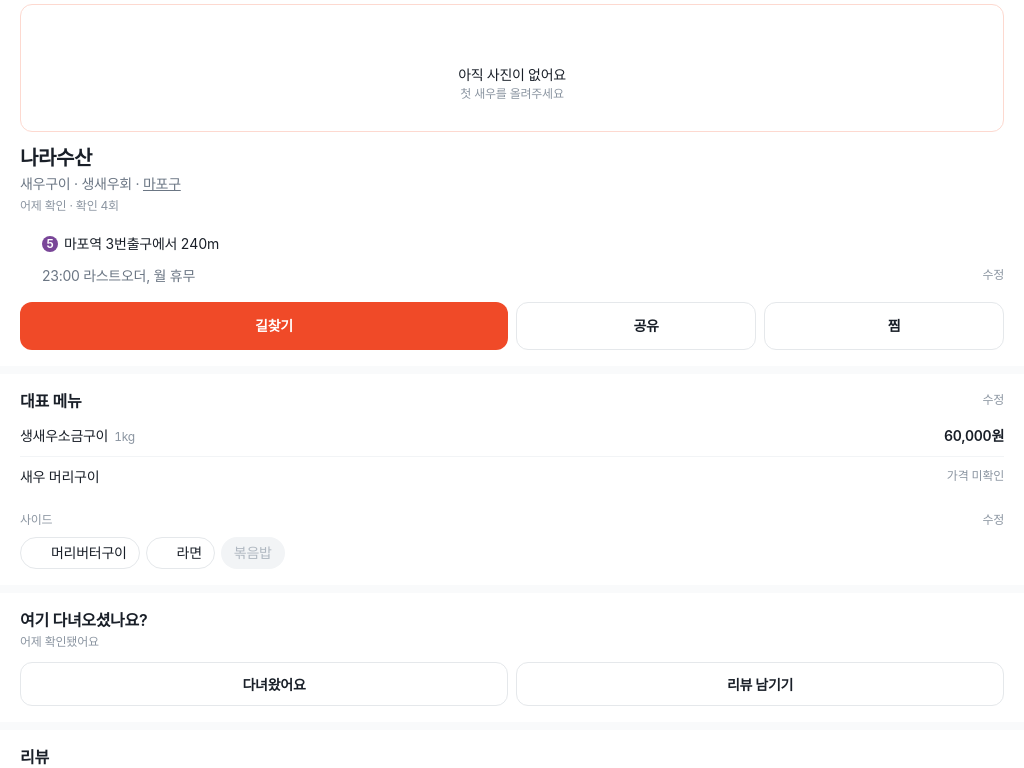
Scenario: 값 제안 시트 — 영업시간·주소·대표 메뉴·사이드 (design 화면 2 값 폼 시트) › 보내고 바로 닫아도 반영은 부모에 도착한다 — 쓰기는 이미 일어났다
Step 1. Click the button with aria-label "영업시간 수정" → (993, 276), box [982,267,1004,284]
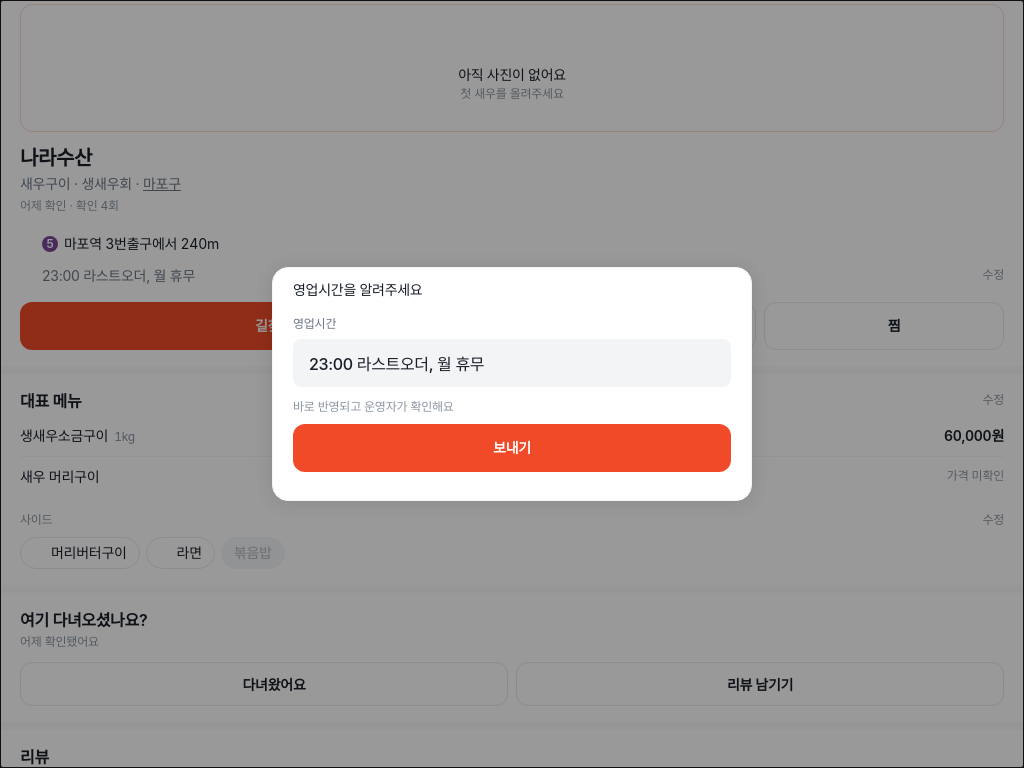
Step 2. Click the button "보내기" → (512, 448), box [293,424,731,472]
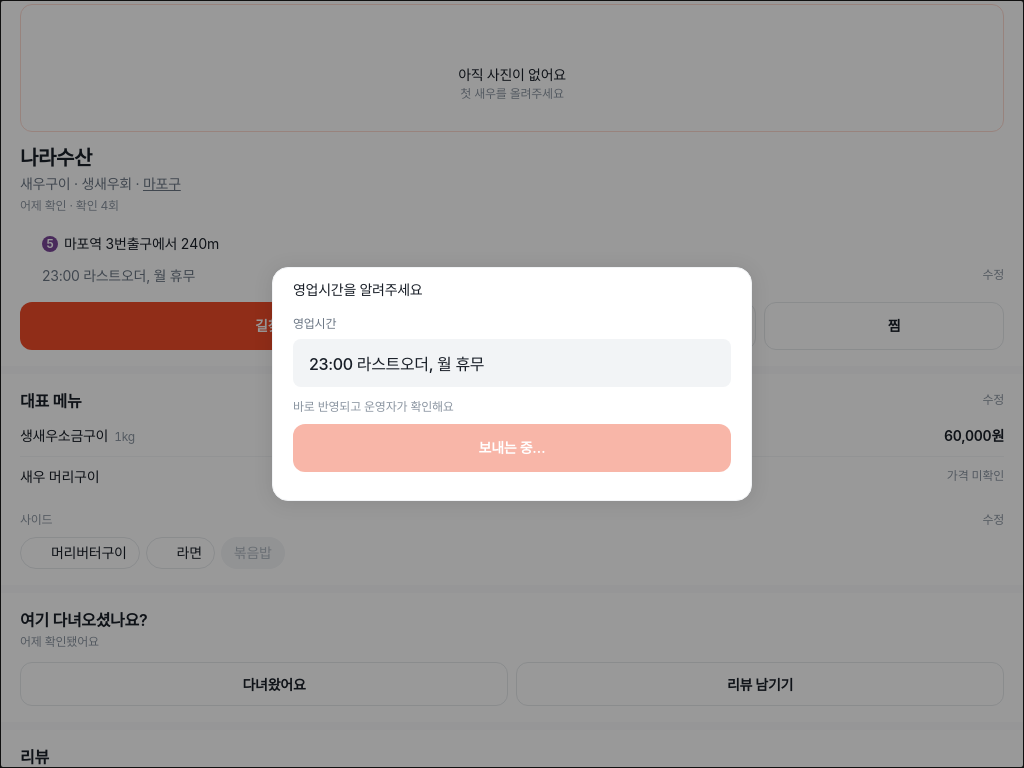
Step 3. Click the 1st button named "닫기" → (61, 384), box [0,0,1023,767]
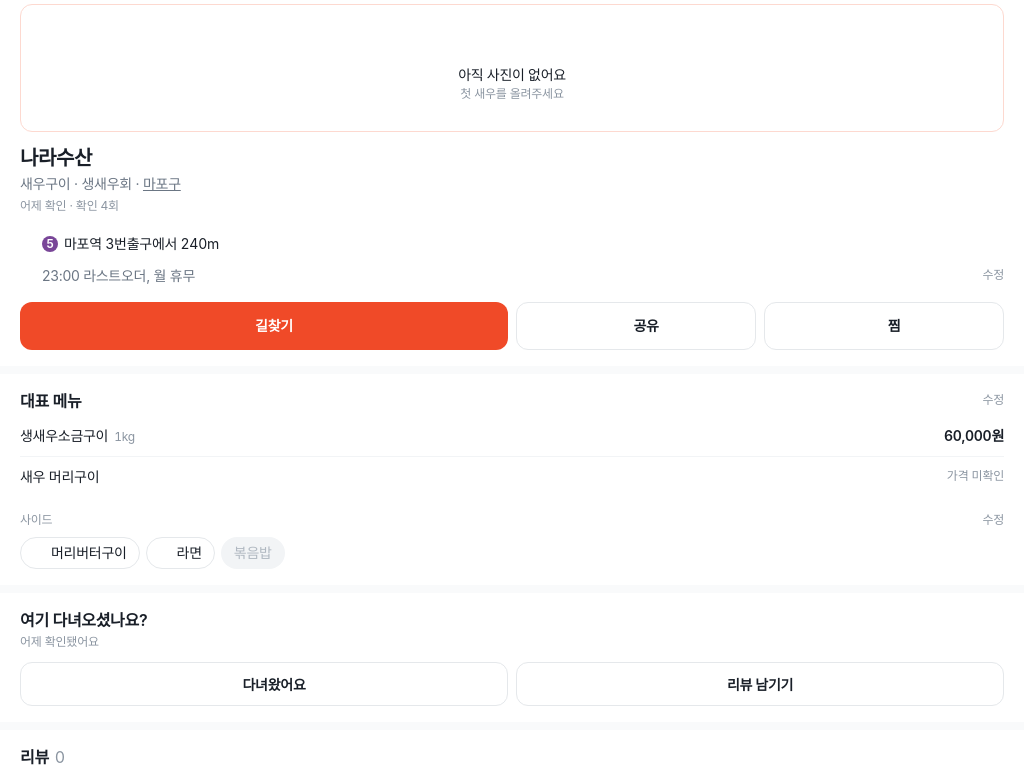
Now the dialog is gone
